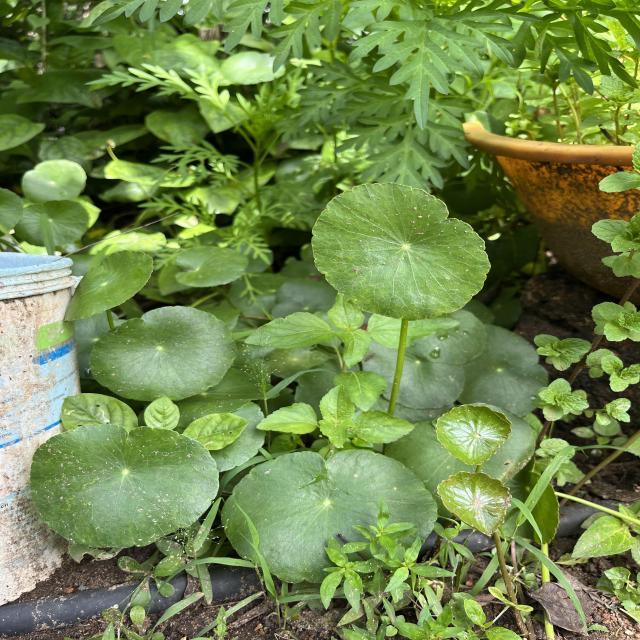Bacopa monnieri: (308, 180, 493, 324), (28, 422, 222, 550), (88, 302, 242, 404), (61, 248, 158, 322), (434, 468, 514, 538), (434, 402, 514, 467)
